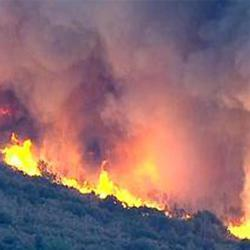fire: (4, 145, 28, 173), (95, 173, 113, 199), (232, 223, 249, 236)
smoke: (22, 11, 158, 81)
